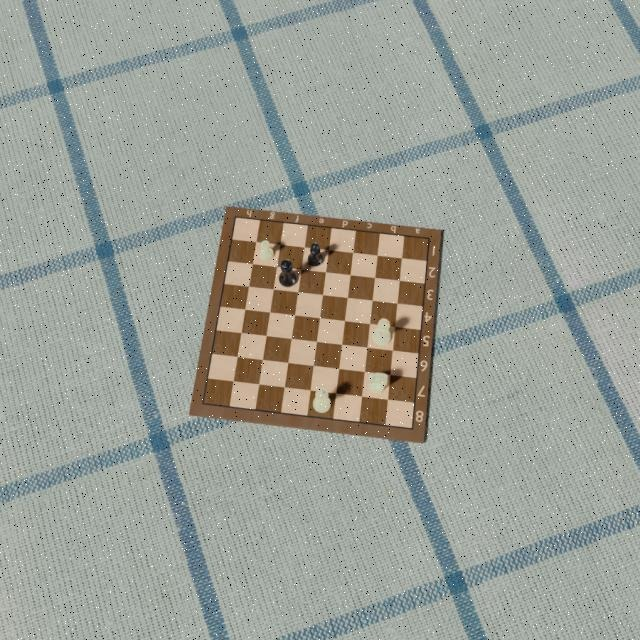black-bishop: (307, 241, 325, 267)
black-king: (279, 257, 297, 288)
white-king: (373, 318, 391, 346)
white-knight: (368, 371, 388, 393)
white-pawn: (258, 239, 275, 261)
white-queen: (312, 386, 332, 414)
